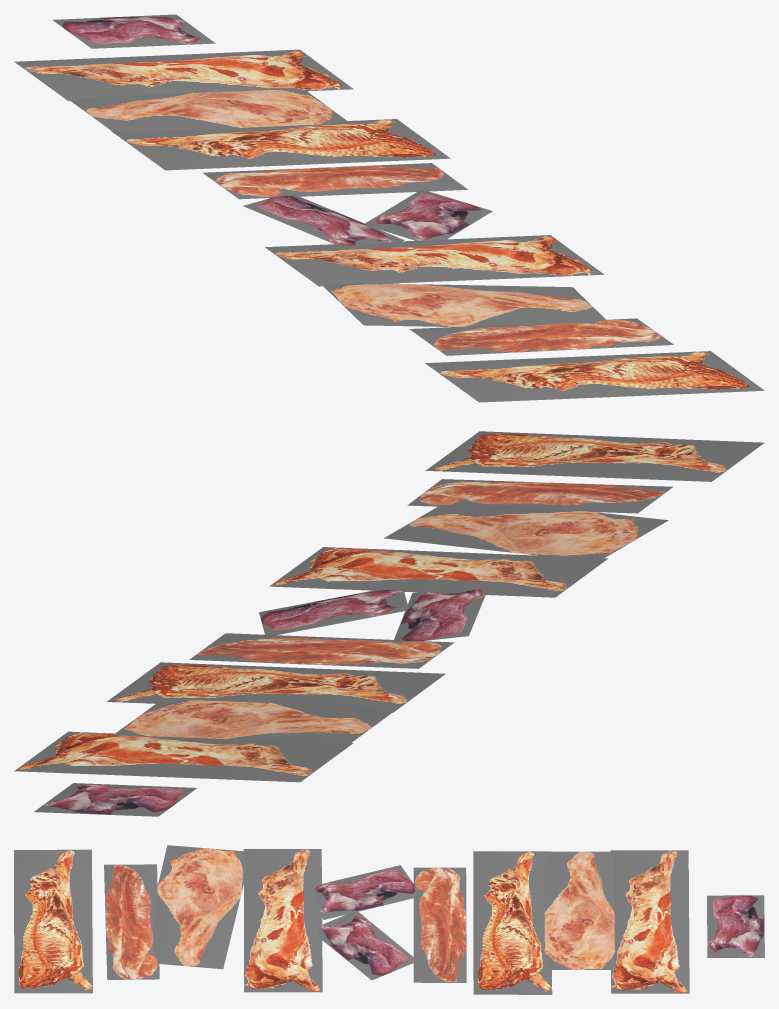
File: meat_booth01_LOD03.fbx
The picture shows the model from 3 angles, top to bottom: view 1: azimuth 30°, elevation 25°; view 2: azimuth 150°, elevation 25°; view 3: azimuth 270°, elevation 25°; orthographic projection. The views are drawn at different scales.
Visible parts, largest first — view 1: Mesh Object; view 2: Mesh Object; view 3: Mesh Object.
Part boxes in pixels (left/top/right/bottom): Mesh Object: left=14, top=14, right=764, bottom=402; Mesh Object: left=14, top=431, right=764, bottom=816; Mesh Object: left=14, top=845, right=764, bottom=994.
Size of the model in its own units: 0.6274 by 0.122 by 1.88.
